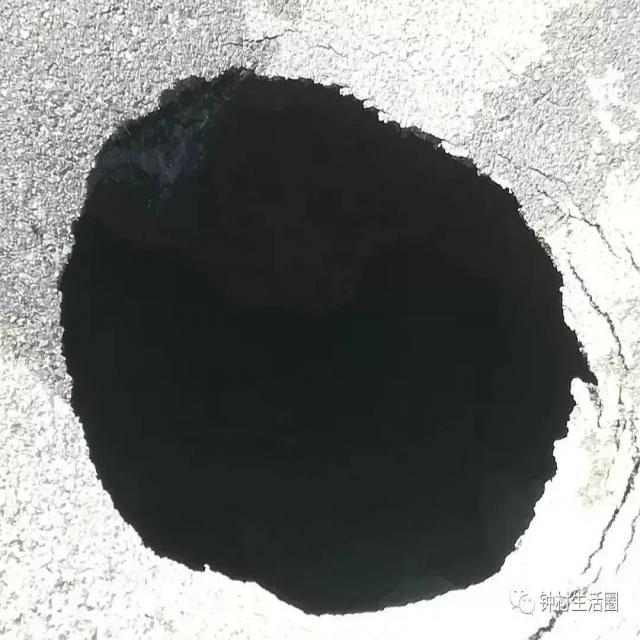Pothole: (55, 66, 598, 615)
